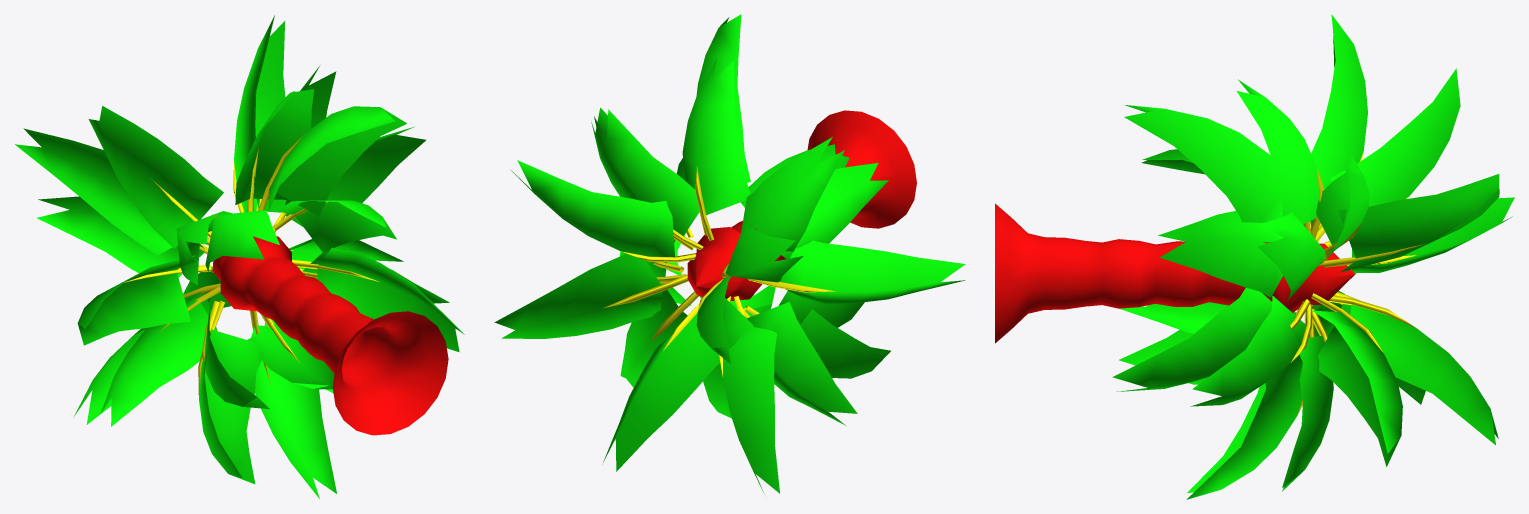
File: M_P10_Tree_3.FBX
3 renders of one model, left to right at view 1: azimuth 30°, elevation 25°; view 2: azimuth 150°, elevation 25°; view 3: azimuth 270°, elevation 25°, orthographic. The views are drawn at different scales.
Parts seen in each view (by area): view 1: M_P10_Tree_3_LOD0; view 2: M_P10_Tree_3_LOD0; view 3: M_P10_Tree_3_LOD0.
Boxes of the visible parts, left/top/right/bottom form: M_P10_Tree_3_LOD0: left=15, top=15, right=464, bottom=498; M_P10_Tree_3_LOD0: left=494, top=14, right=965, bottom=494; M_P10_Tree_3_LOD0: left=995, top=14, right=1514, bottom=499.
Bounding box in the file's own units: 299 × 312 × 274.
